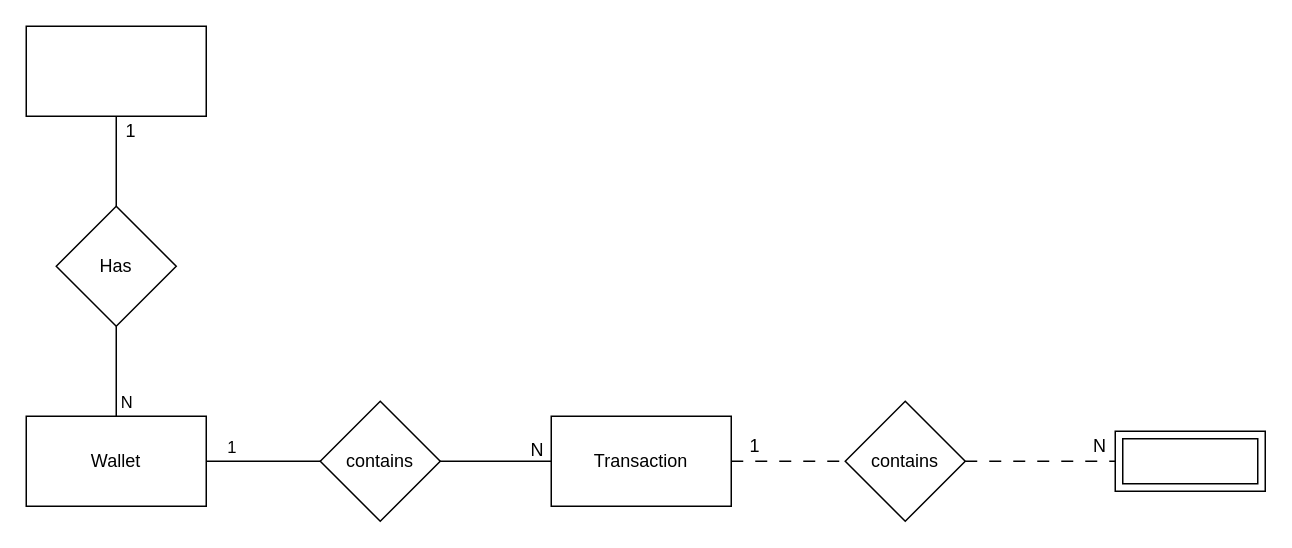
The diagram is 1292 pixels wide and 548 high, and some of its shapes have lost their labels. The shapes that lost their labels are listed below. From the top down, each one's box as (x1, y1, x2, y2) in pixels, then its label:
(25, 25, 206, 116): User
(1114, 430, 1265, 491): Installments
